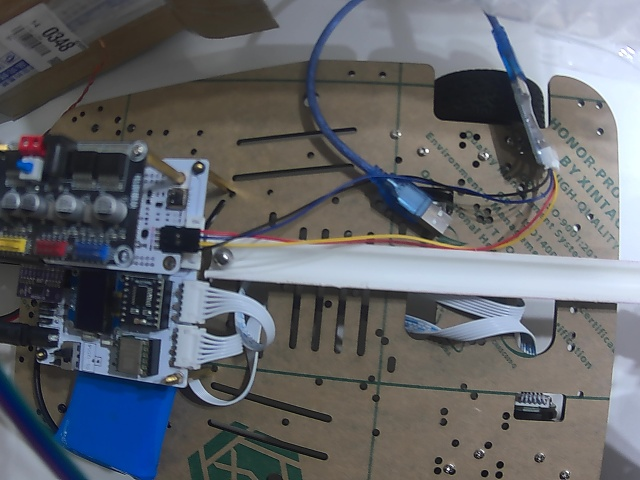steelball: (212, 247, 235, 269)
